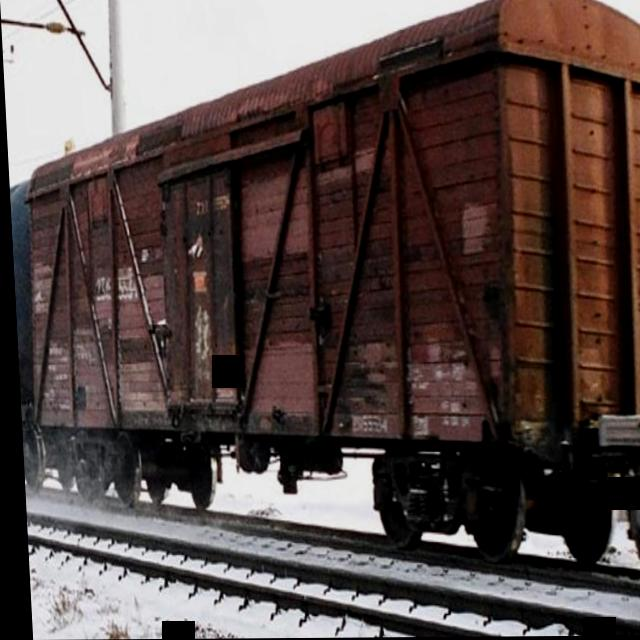container: (9, 0, 640, 577)
